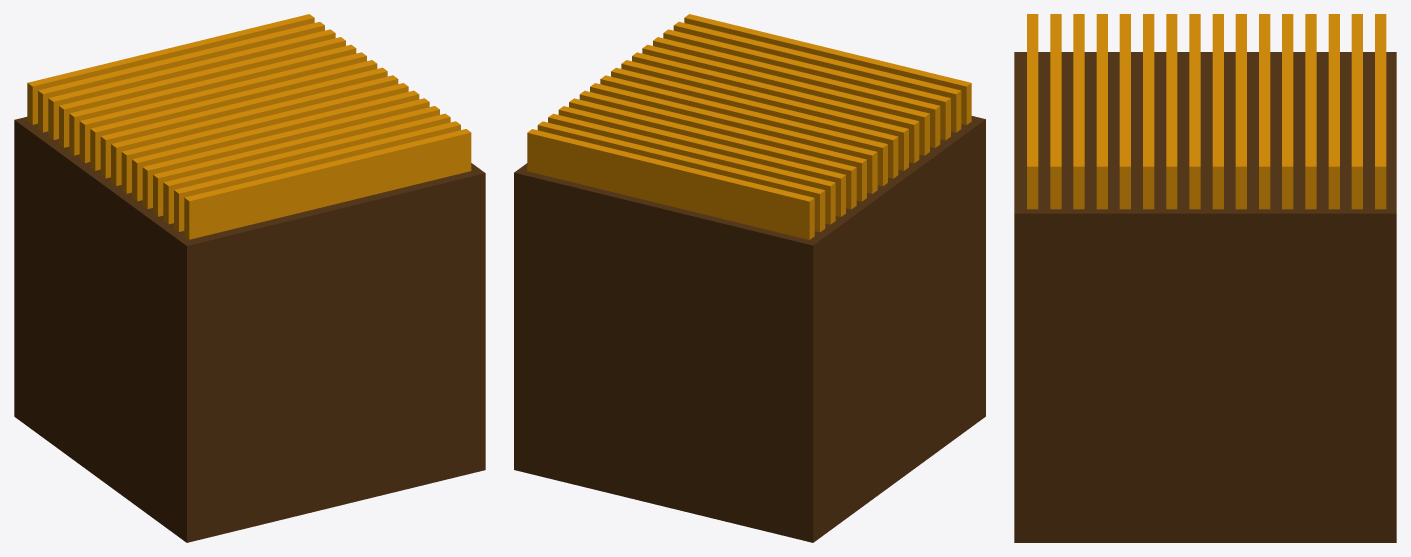
File: FarmFieldCube_02.fbx
The picture shows the model from 3 angles, left to right: view 1: azimuth 30°, elevation 25°; view 2: azimuth 150°, elevation 25°; view 3: azimuth 270°, elevation 25°; orthographic projection. The views are drawn at different scales.
Visible parts, largest first — view 1: FarmFieldCube_02; view 2: FarmFieldCube_02; view 3: FarmFieldCube_02.
Boxes of the visible parts, x1,y1,x2,y2 form: FarmFieldCube_02: (14,14,485,542); FarmFieldCube_02: (514,14,985,542); FarmFieldCube_02: (1014,14,1396,542).
Bounding box in the file's own units: 1 × 1.07 × 1.
